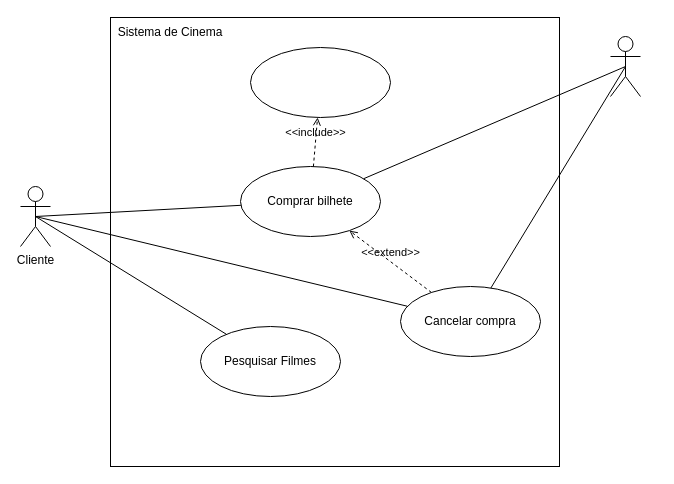
This 674x484 diagram has some shape labels left out. The box of each missing label's shape, as (x1, y1, x2, y2) in pixels:
Funcionario: (610, 36, 640, 96)
Gerar recibo: (250, 46, 390, 118)
